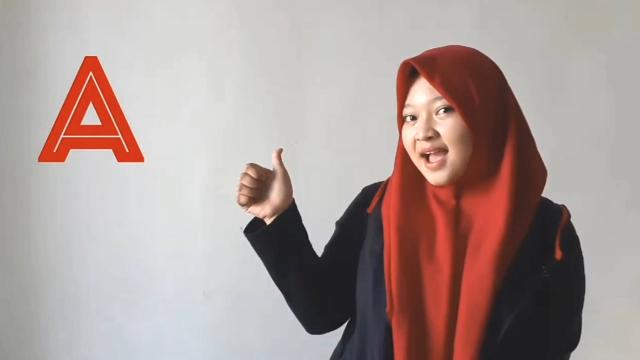A: (238, 145, 296, 220)
